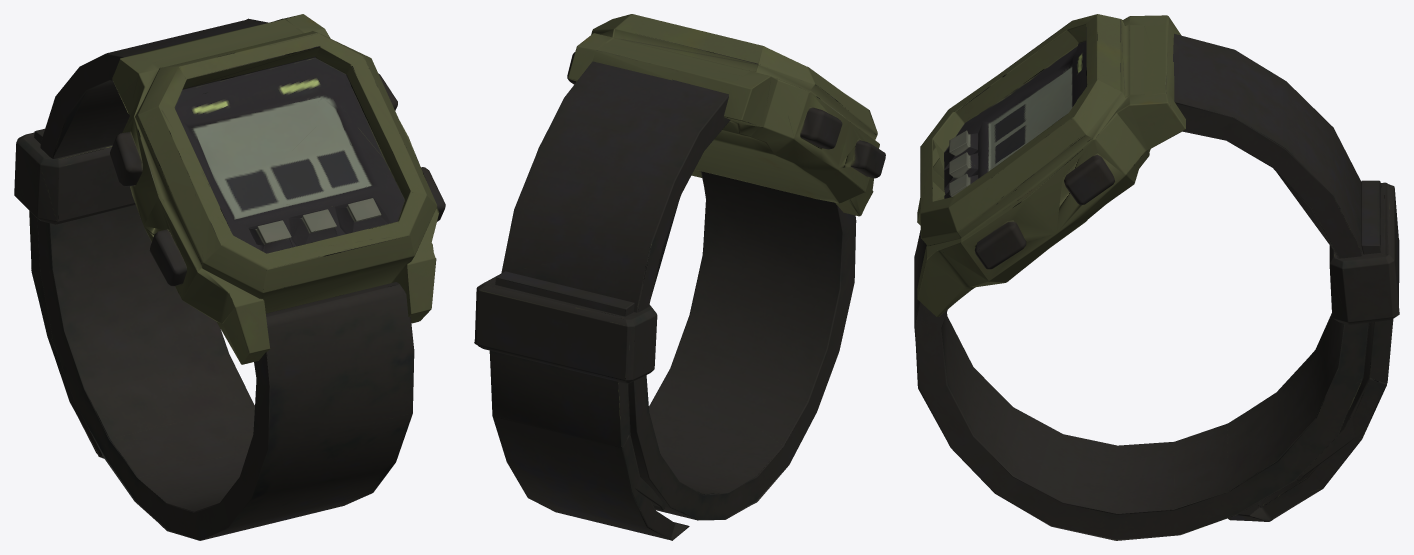
Rendered from watch.glb.
The picture shows the model from 3 angles, left to right: view 1: azimuth 30°, elevation 25°; view 2: azimuth 150°, elevation 25°; view 3: azimuth 270°, elevation 25°; orthographic projection. The views are drawn at different scales.
Parts seen in each view (by area): view 1: geometry_0; view 2: geometry_0; view 3: geometry_0.
Boxes of the visible parts, x1,y1,x2,y2 form: geometry_0: (14, 14, 445, 540); geometry_0: (474, 14, 885, 540); geometry_0: (914, 14, 1399, 540).
Bounding box in the file's own units: 0.5781 × 0.9512 × 0.9023.
1 material, 1 textured.
